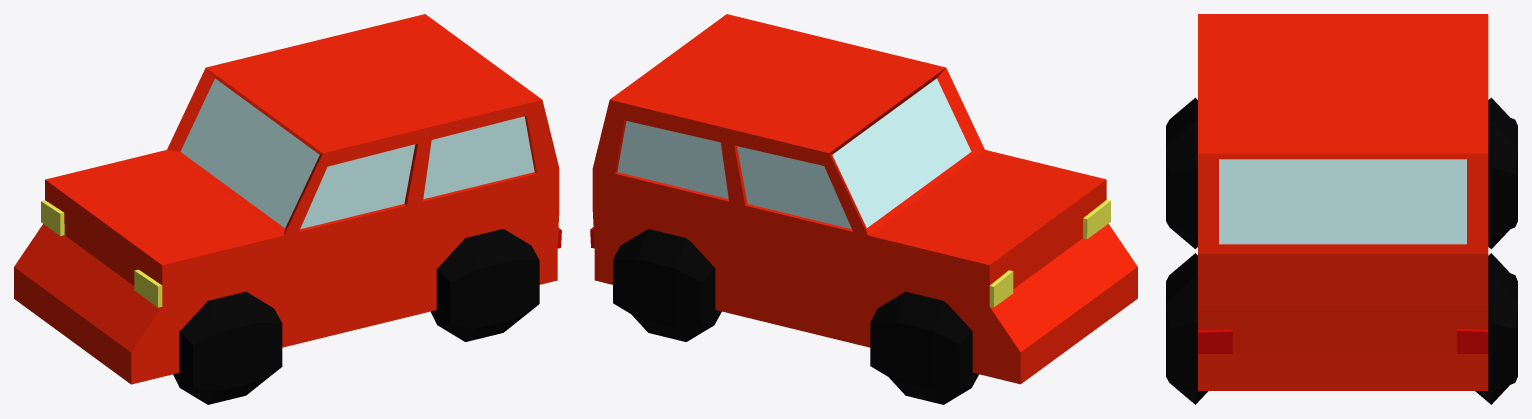
File: car.fbx
The picture shows the model from 3 angles, left to right: view 1: azimuth 30°, elevation 25°; view 2: azimuth 150°, elevation 25°; view 3: azimuth 270°, elevation 25°; orthographic projection. The views are drawn at different scales.
Parts seen in each view (by area): view 1: CAR; view 2: CAR; view 3: CAR.
Boxes of the visible parts, bbox=[...] form: CAR: bbox=[14, 14, 561, 404]; CAR: bbox=[590, 14, 1137, 404]; CAR: bbox=[1166, 14, 1517, 404].
Bounding box in the file's own units: 707 × 349 × 404.
